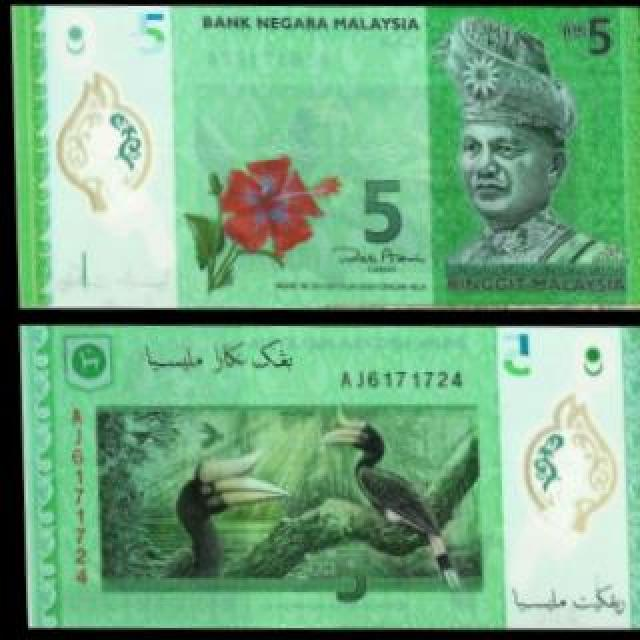5 Ringgit: (12, 312, 640, 633), (6, 0, 640, 315)
